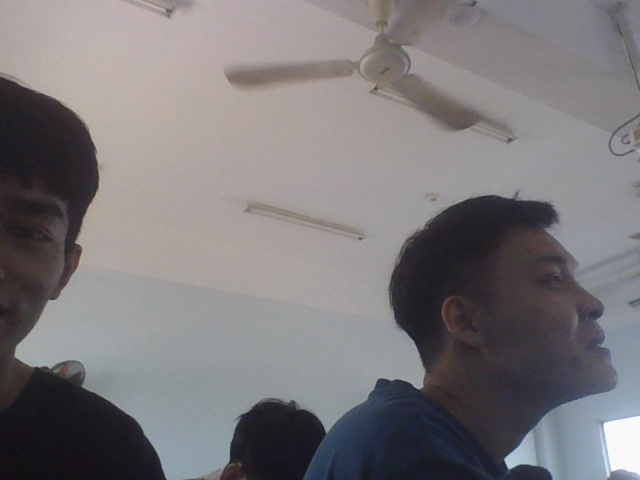real: (455, 177, 606, 391)
